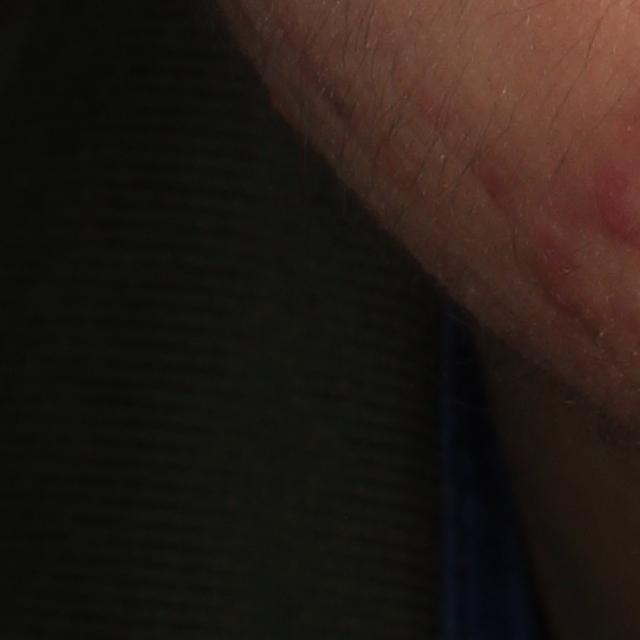papule: (528, 230, 591, 323)
